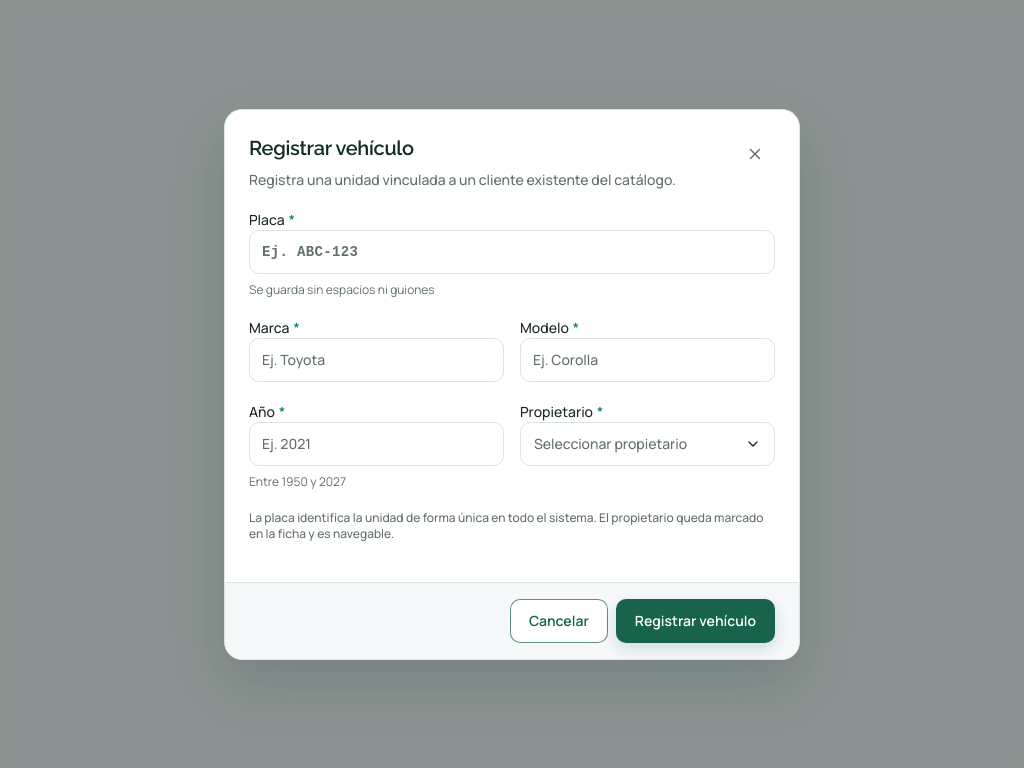
it: Formulario de vehículos › valida el formulario sin enviar campos vacíos
The width and height of the screenshot is (1024, 768).
Click the button "Registrar vehículo" at (695, 620), box [616, 598, 775, 642]
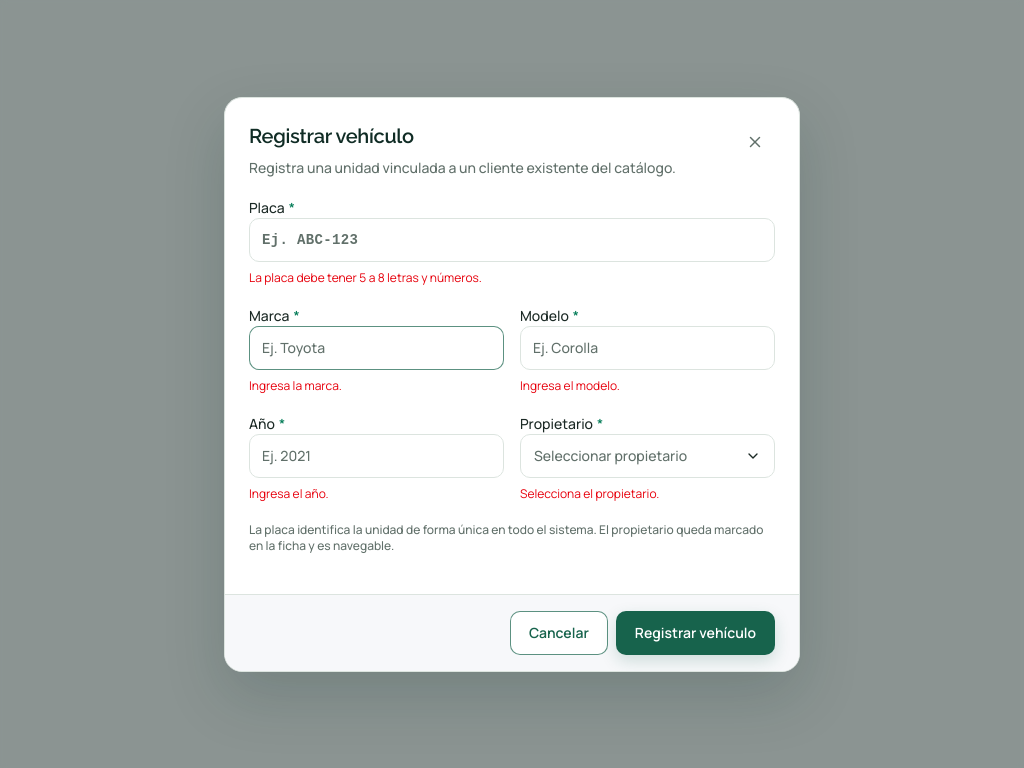
Expected: the text "La placa debe tener 5 a 8 letras y números." is shown, [249, 268, 482, 286]
Expected: the text "Ingresa la marca." is shown, [249, 376, 342, 394]
Expected: the text "Ingresa el modelo." is shown, [520, 376, 620, 394]
